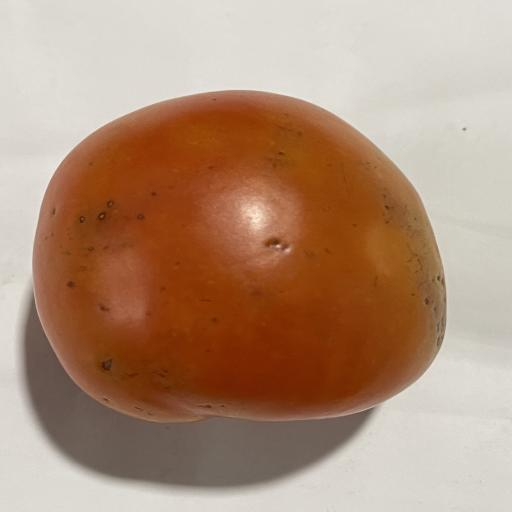ripe: (33, 91, 446, 422)
